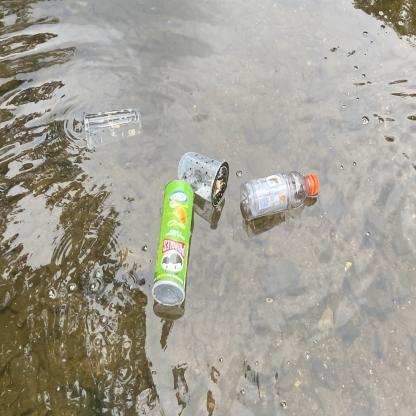trash: (152, 171, 198, 309), (234, 162, 327, 226), (174, 146, 232, 210), (73, 105, 146, 149)
